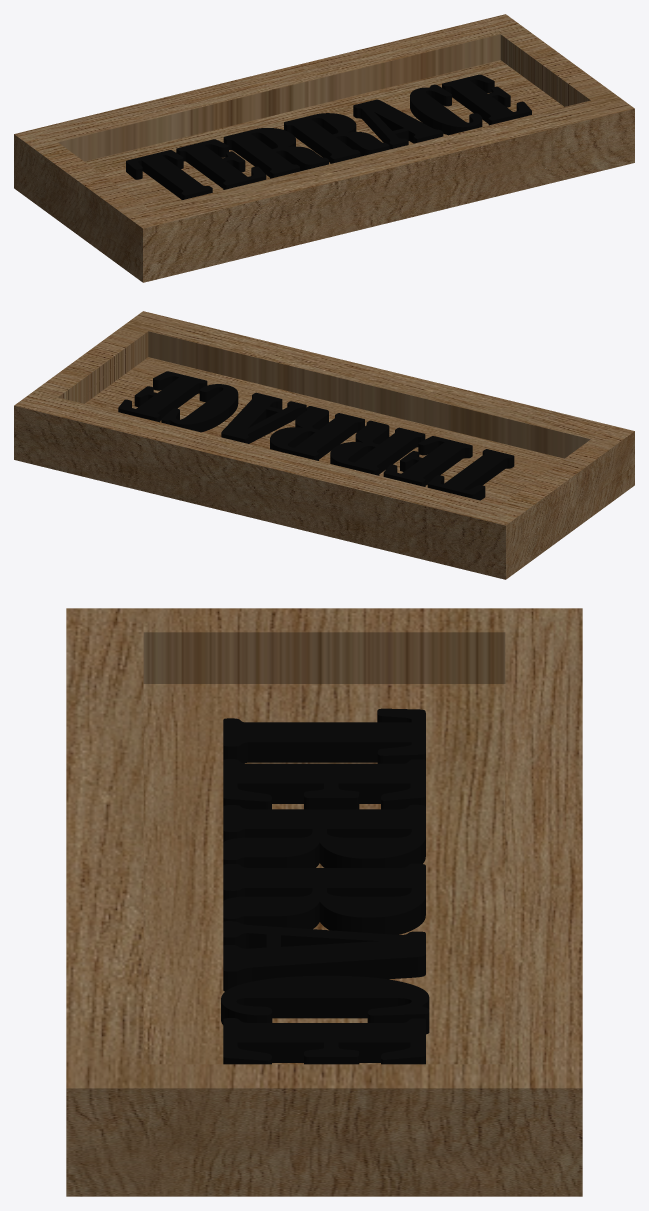
The model's file is Terrace Door Sign.fbx.
The picture shows the model from 3 angles, top to bottom: view 1: azimuth 30°, elevation 25°; view 2: azimuth 150°, elevation 25°; view 3: azimuth 270°, elevation 25°; orthographic projection. The views are drawn at different scales.
Visible parts, largest first — view 1: Cube, Name; view 2: Cube, Name; view 3: Cube, Name.
Part boxes in pixels (<box>): Cube: <box>14,14,634,282</box>; Name: <box>126,74,531,199</box>; Cube: <box>14,311,634,579</box>; Name: <box>118,371,514,500</box>; Cube: <box>66,608,582,1196</box>; Name: <box>221,708,429,1064</box>.
Bounding box in the file's own units: 440 × 46.32 × 200.
2 materials, 1 textured.
